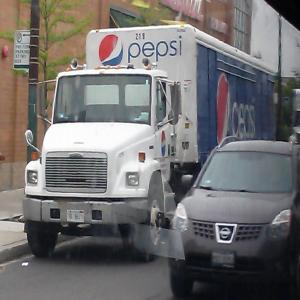Vehicle-registration-plate: (212, 252, 236, 270), (67, 210, 86, 224)
